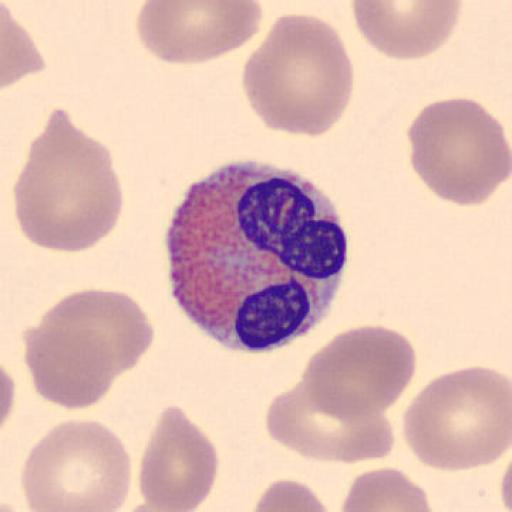RBC: (12, 107, 125, 255), (23, 287, 156, 411), (241, 11, 355, 140), (402, 364, 511, 474), (406, 96, 510, 209), (301, 323, 417, 423), (264, 378, 396, 464), (35, 286, 156, 376), (20, 417, 132, 512), (23, 317, 119, 411), (137, 404, 220, 511), (134, 0, 262, 66), (350, 0, 464, 62), (338, 465, 436, 512), (2, 0, 44, 90), (250, 476, 334, 512), (0, 359, 17, 432), (499, 437, 512, 512), (113, 500, 191, 512), (117, 502, 179, 512)
WBC: (164, 158, 349, 355)
